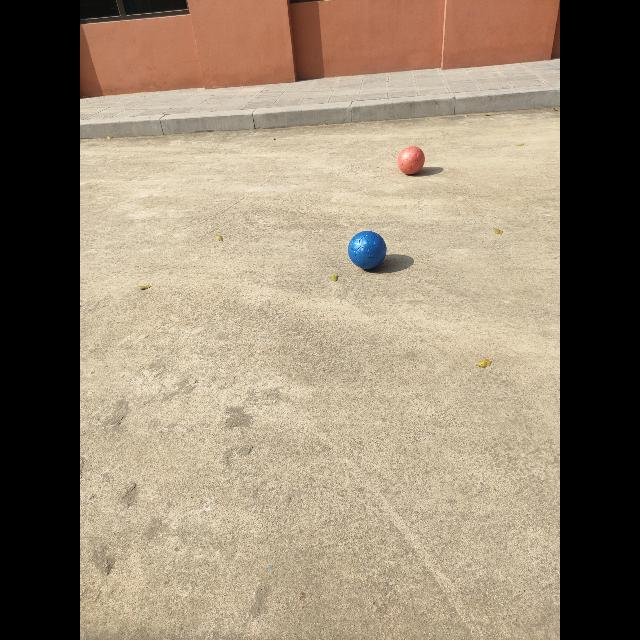B: (348, 231, 386, 270)
R: (398, 146, 425, 175)
